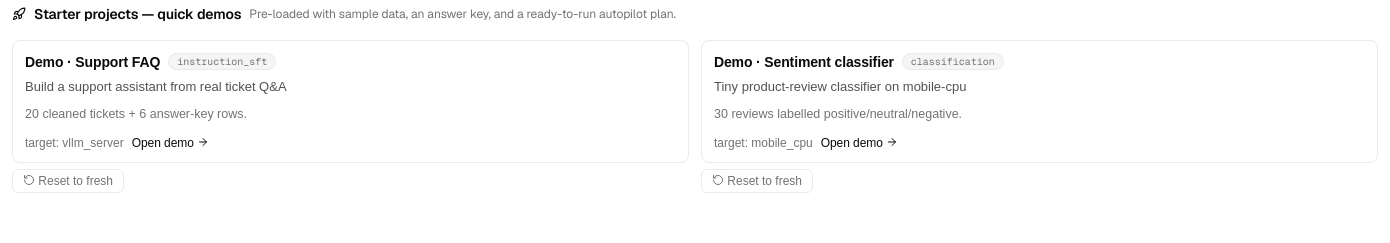
DemoProjectTiles › surfaces an error when the seed POST fails
Expected: the text "Demo · Support FAQ" is shown, [25,54,160,70]
Click the button with aria-label "Open the Demo · Support FAQ starter project". click: (93,62)
box: [12,40,689,163]
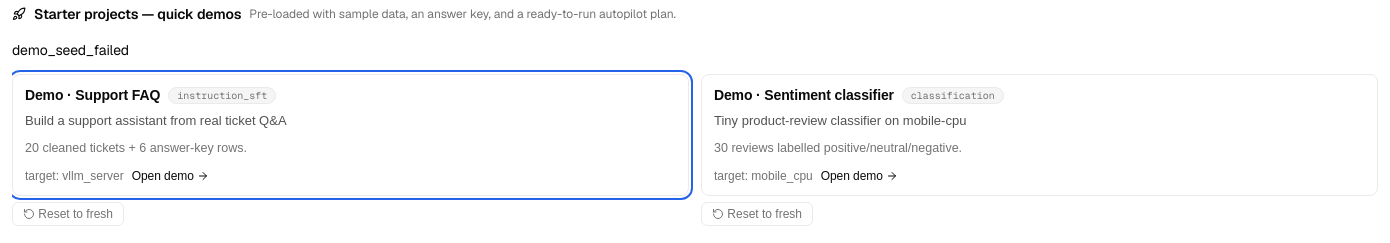
Expected: the message reads "demo_seed_failed", [12,41,129,59]
